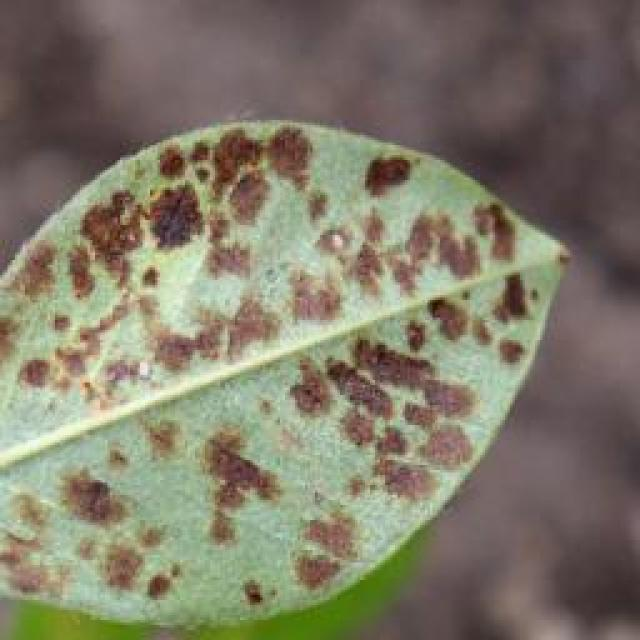Whitefly: (0, 107, 550, 615)
